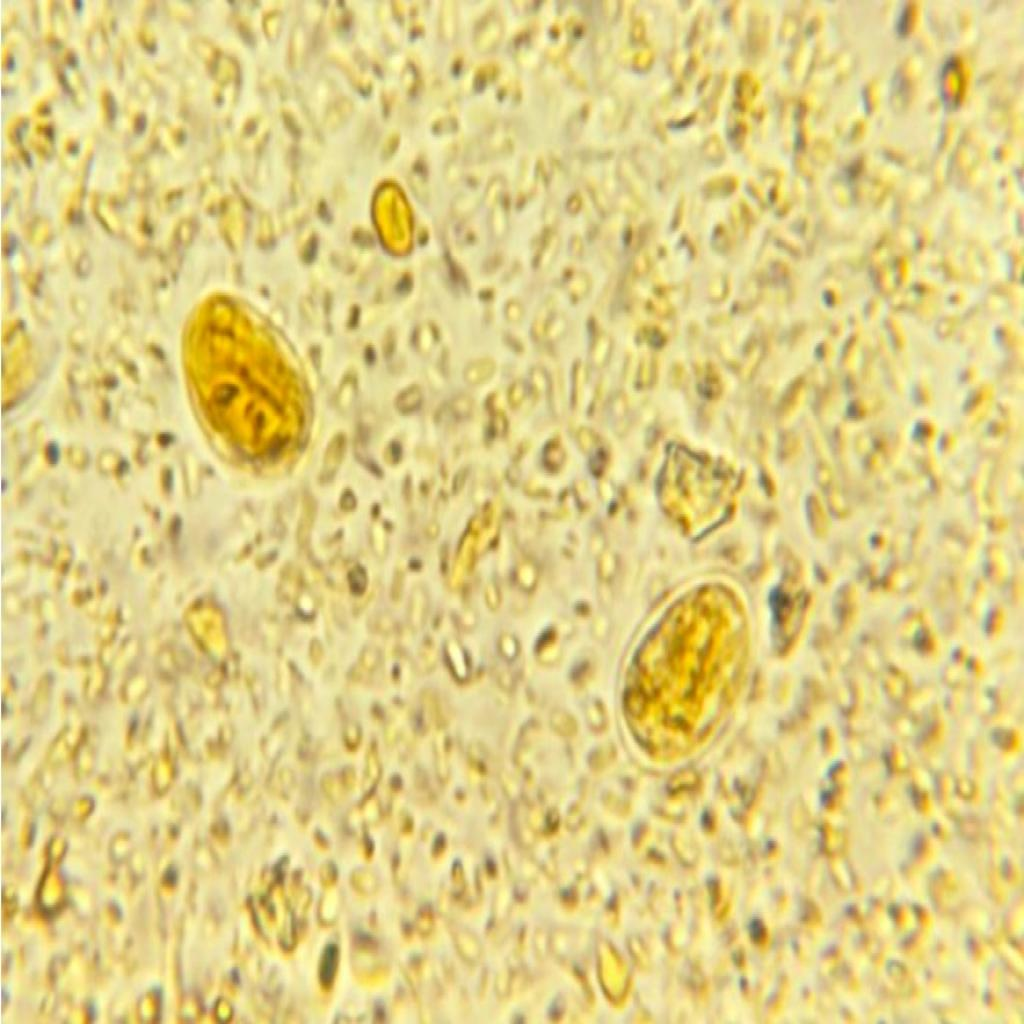Giardia: (608, 564, 762, 774), (172, 286, 316, 486)
